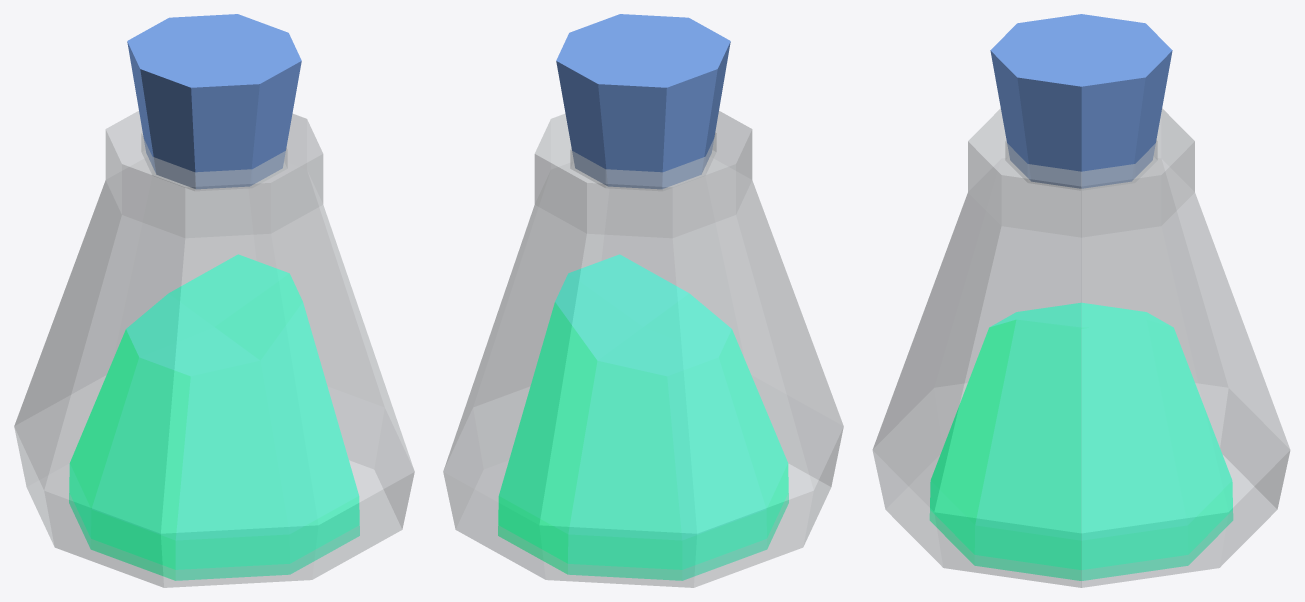
The model's file is MadeByJawns_ItchIO_GameItems_v1_0_1_Potion.fbx.
3 views of the same model, side by side, from view 1: azimuth 30°, elevation 25°; view 2: azimuth 150°, elevation 25°; view 3: azimuth 270°, elevation 25° (orthographic).
Visible parts, largest first — view 1: Bottle, Liquid; view 2: Bottle, Liquid; view 3: Bottle, Liquid.
Part boxes in pixels (x1,y1,x2,y2): Bottle: (14,14,414,587); Liquid: (69,254,359,580); Bottle: (443,14,843,587); Liquid: (498,254,788,580); Bottle: (872,14,1290,587); Liquid: (930,302,1232,580).
Size of the model in its own units: 438 by 576 by 464.
